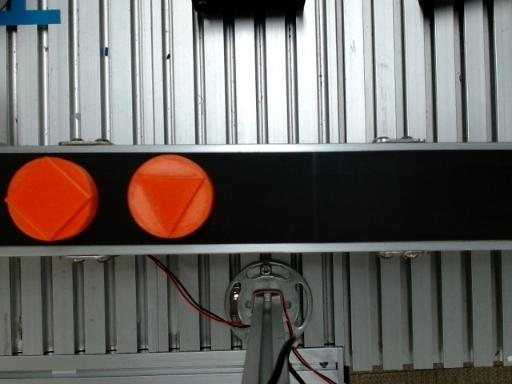Not_Square: (133, 175, 205, 238)
Orange_Waper: (4, 157, 98, 242), (128, 155, 214, 238)
Square: (3, 154, 92, 241)
